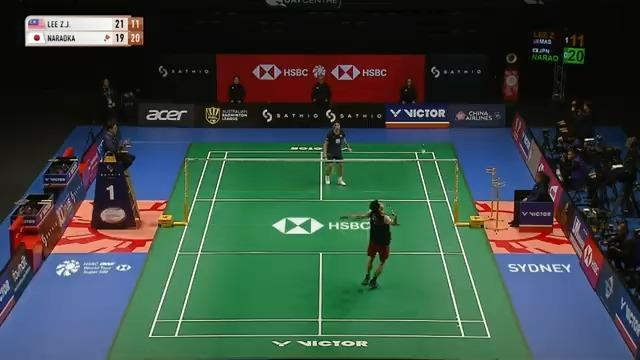Shuttlecock: (418, 149, 427, 157)
